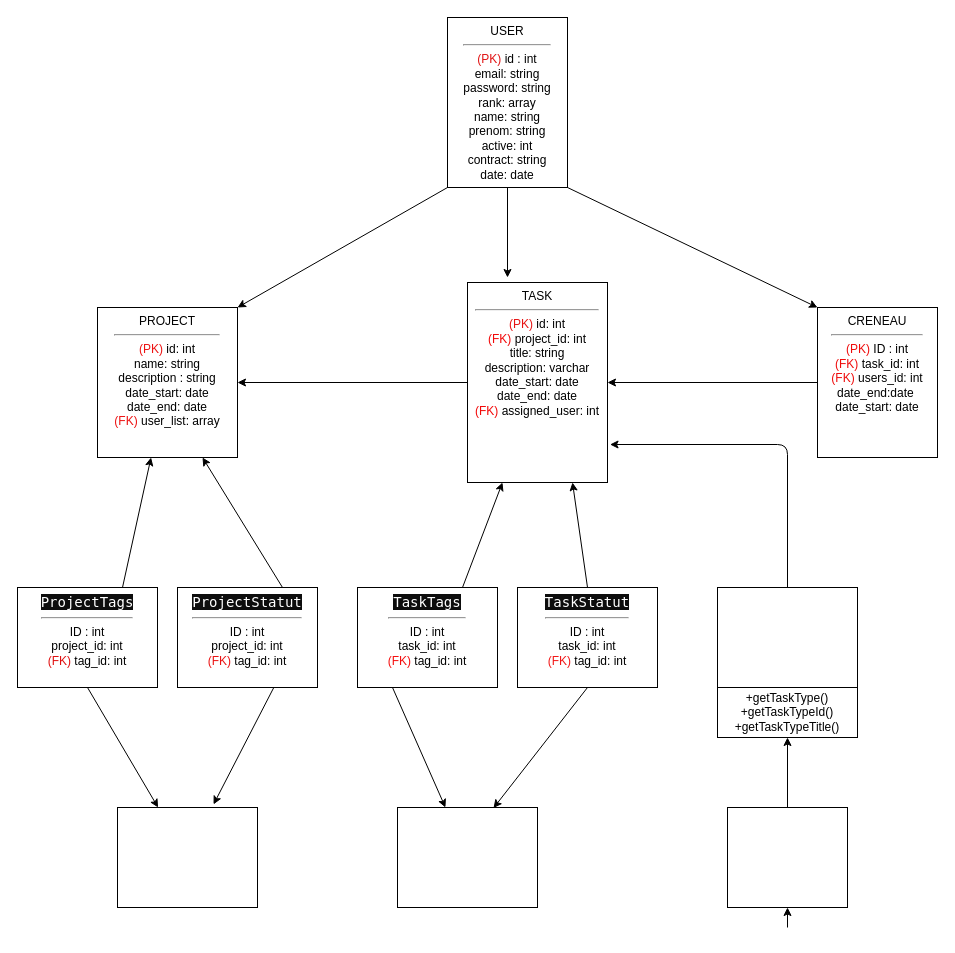
This 955x953 diagram has some shape labels left out. The shapes that lost their labels are listed below. From the top down, each one's box as (x1, y1, x2, y2) in pixels, then its label:
(716, 586, 858, 688): TaskType ID : int task_id: int (FK) type_id: int
(116, 806, 258, 908): STATUT (PK) ID : int TITRE : string
(396, 806, 538, 908): TAG (PK) id: int title: int
(726, 806, 848, 908): TYPE (PK) id: int title: int
